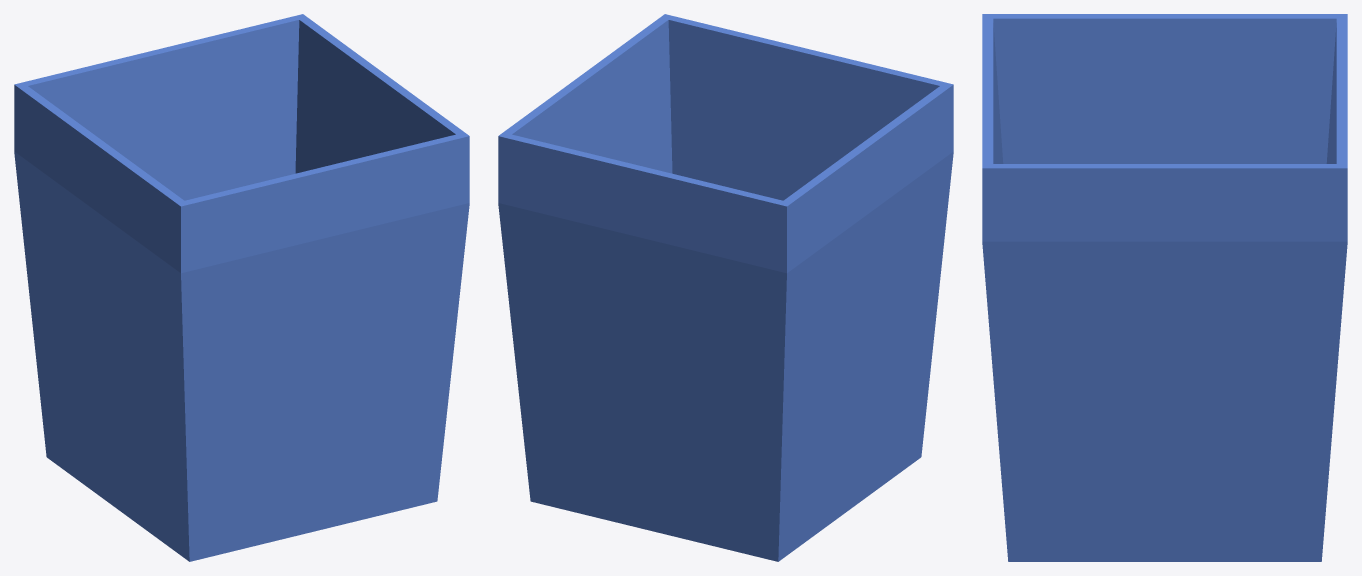
File: tempat sampah kecil.fbx
3 renders of one model, left to right at view 1: azimuth 30°, elevation 25°; view 2: azimuth 150°, elevation 25°; view 3: azimuth 270°, elevation 25°, orthographic. The views are drawn at different scales.
Parts seen in each view (by area): view 1: Cube.014; view 2: Cube.014; view 3: Cube.014.
Part boxes in pixels (x1,y1,x2,y2): Cube.014: [14, 14, 469, 561]; Cube.014: [498, 14, 953, 561]; Cube.014: [982, 14, 1347, 561].
Size of the model in its own units: 48.45 by 59.16 by 48.45.
